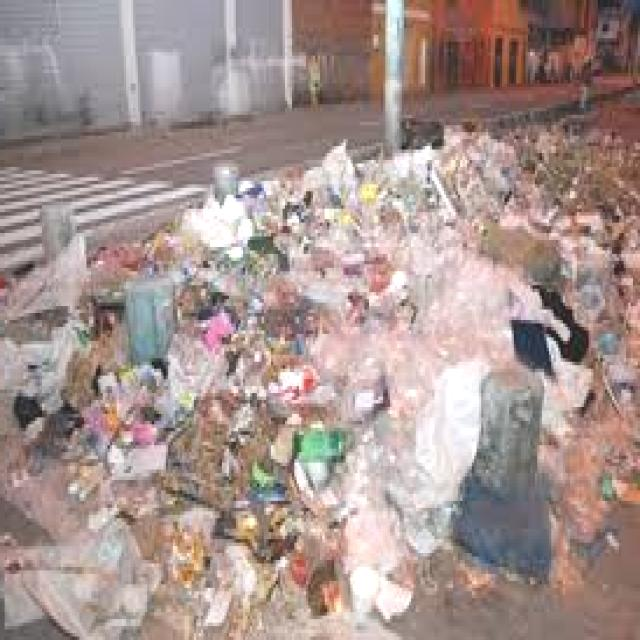garbage: (0, 118, 637, 640)
